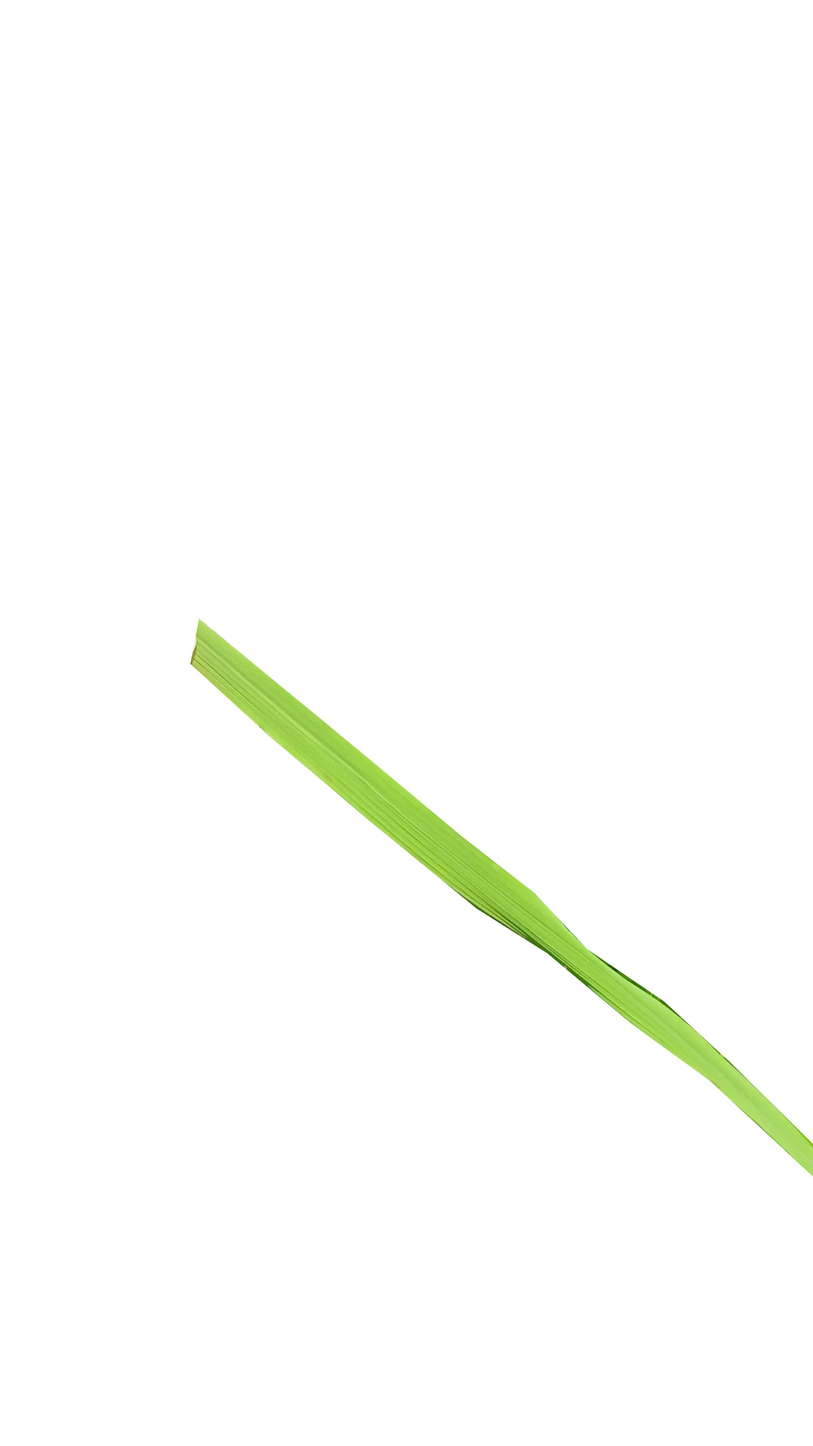Tungro: (188, 622, 813, 1184)
